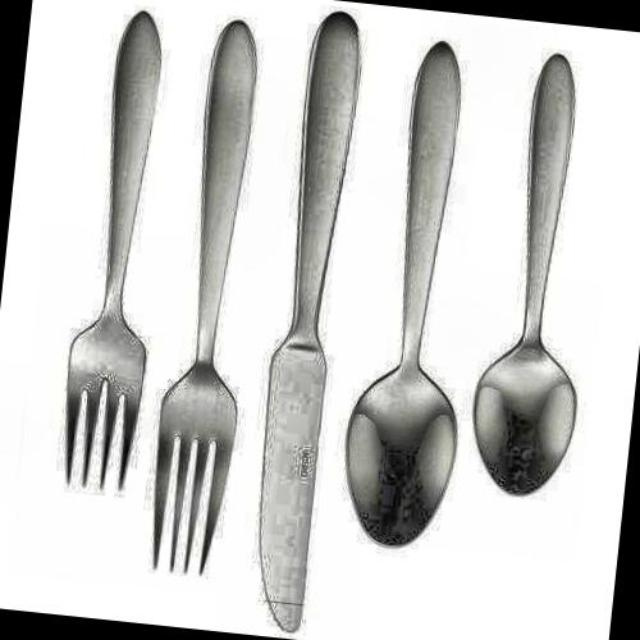Fork: (154, 22, 255, 572), (66, 12, 161, 488)
Knife: (260, 13, 359, 631)
Spoon: (347, 43, 459, 545), (474, 56, 575, 494)
